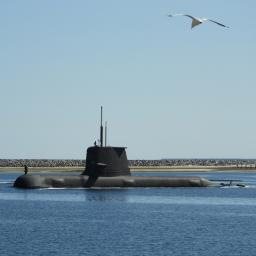submarine: (13, 106, 247, 189)
